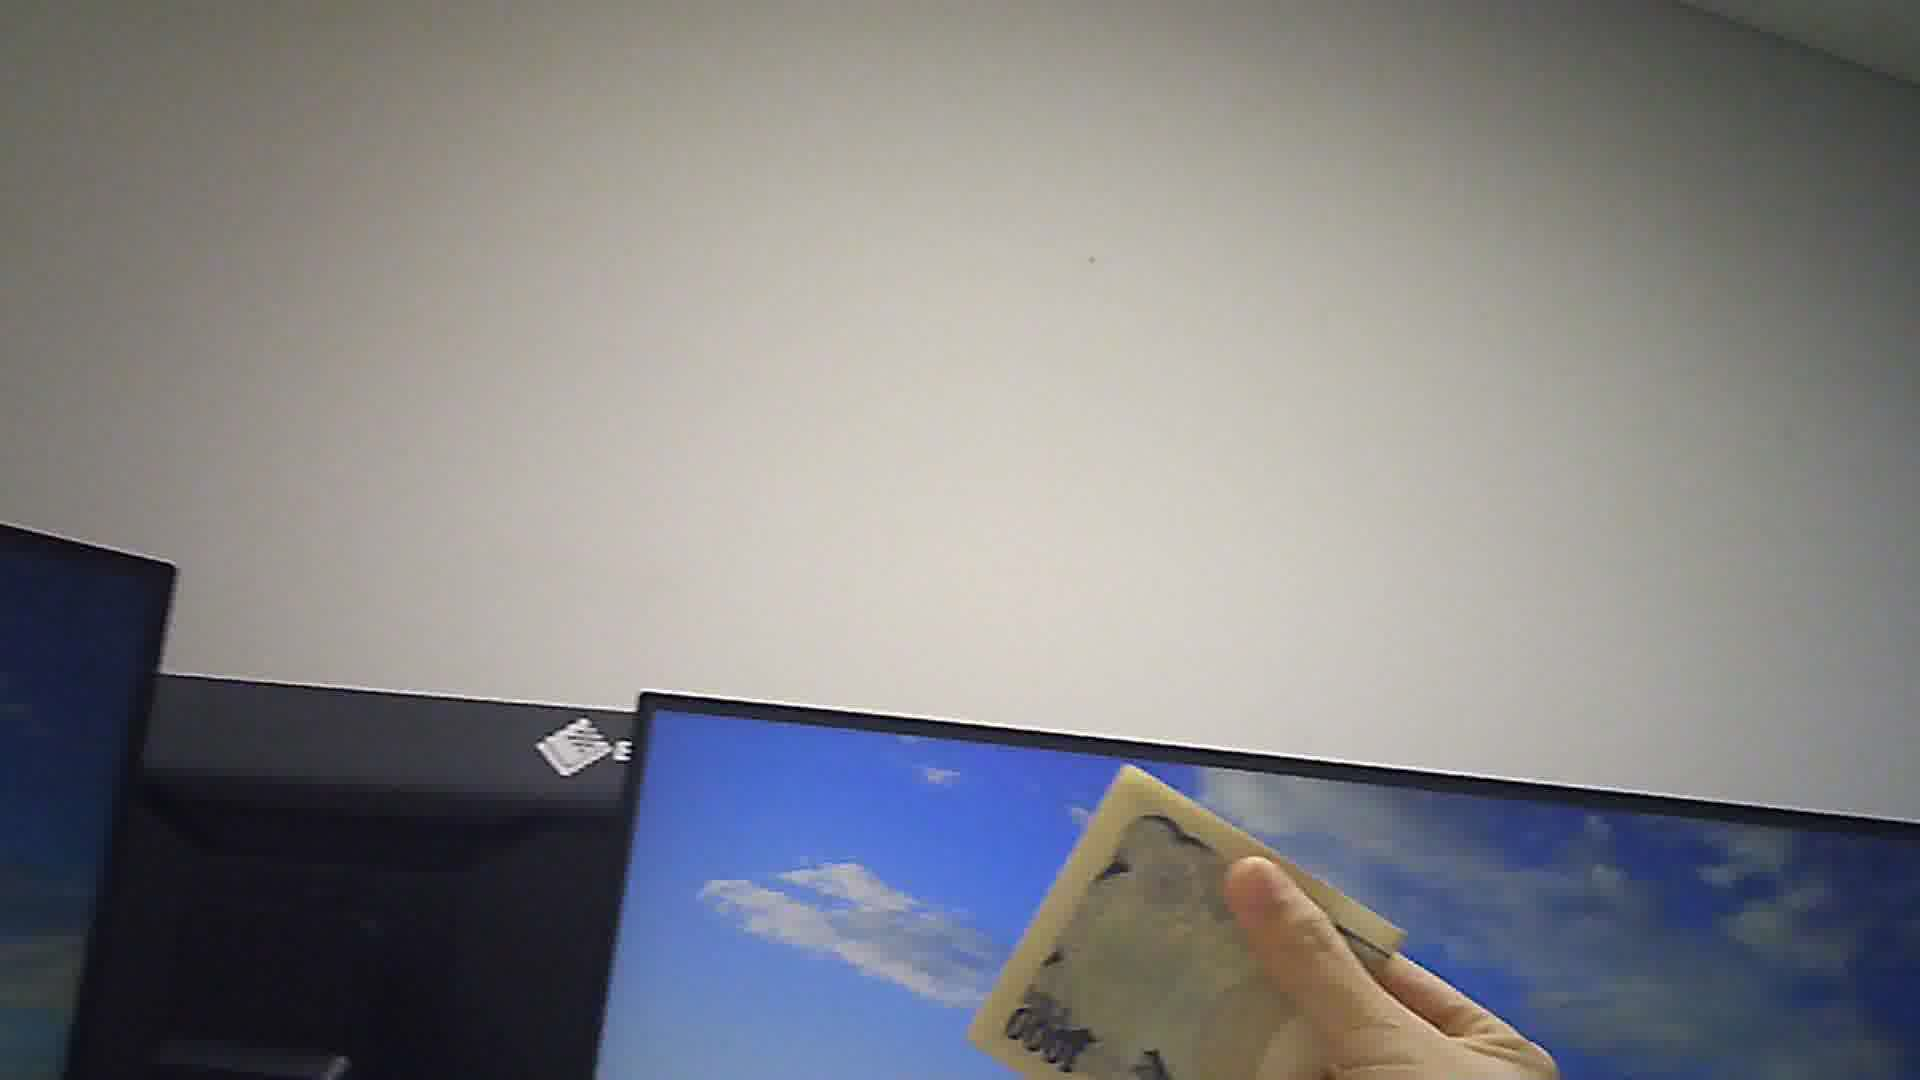1,000 Yen: (973, 769, 1414, 1079)
